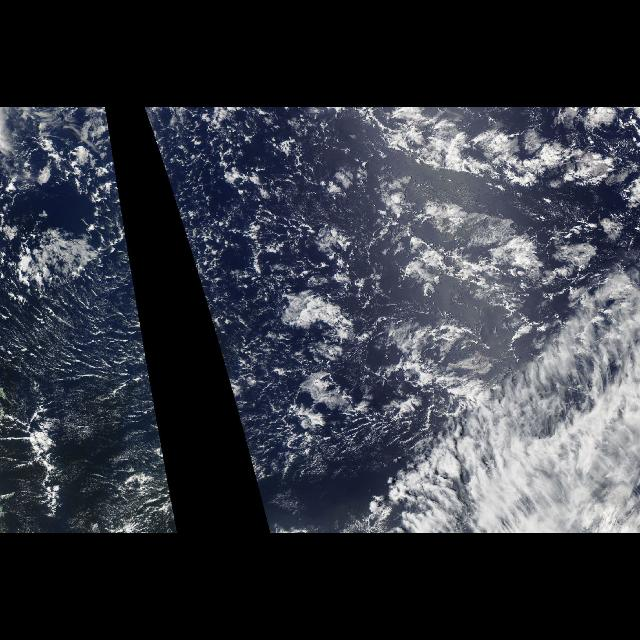Fish: (292, 111, 640, 413)
Gravel: (150, 110, 536, 458), (8, 284, 164, 458)
Sugar: (2, 244, 158, 433)
